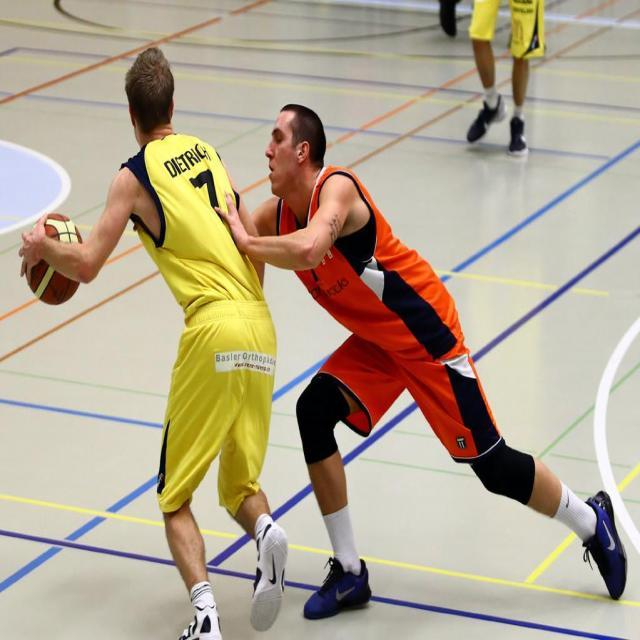rim: (27, 218, 82, 302)
